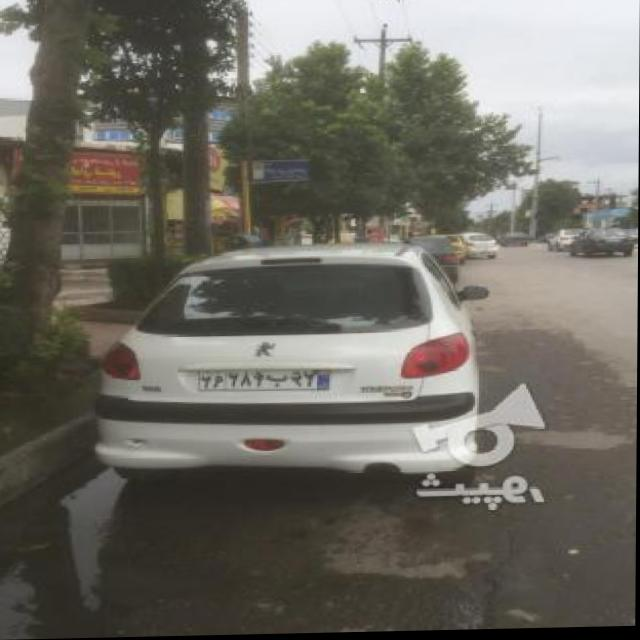licence: (203, 363, 332, 393)
